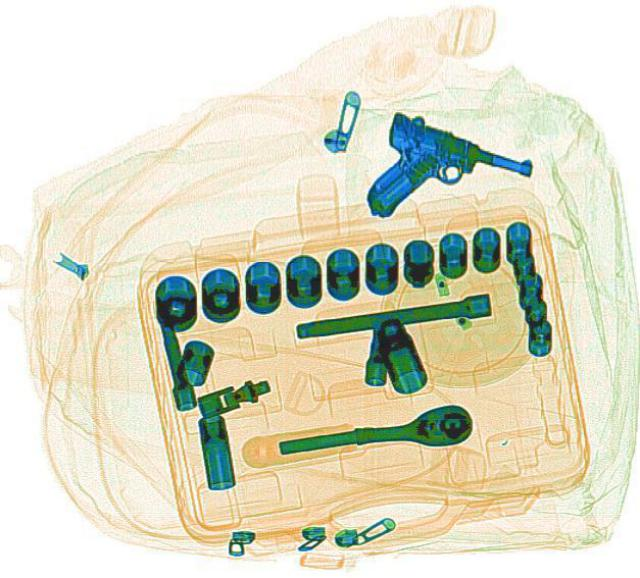Gun: (352, 109, 540, 252)
